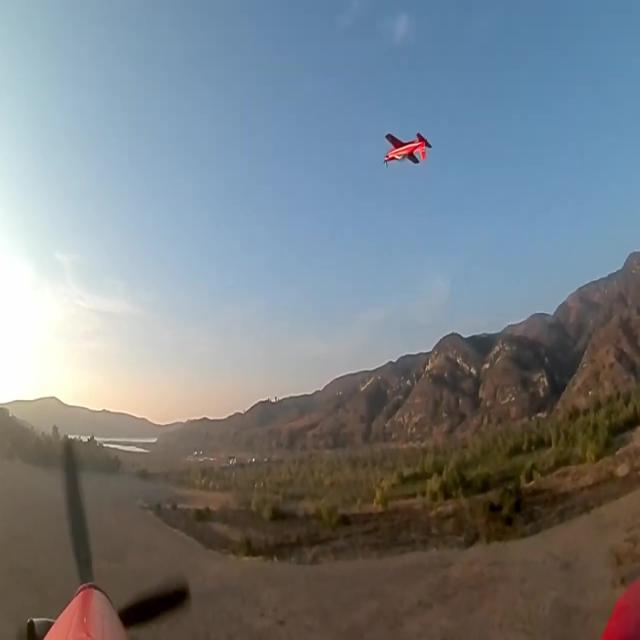iha: (383, 131, 432, 169)
